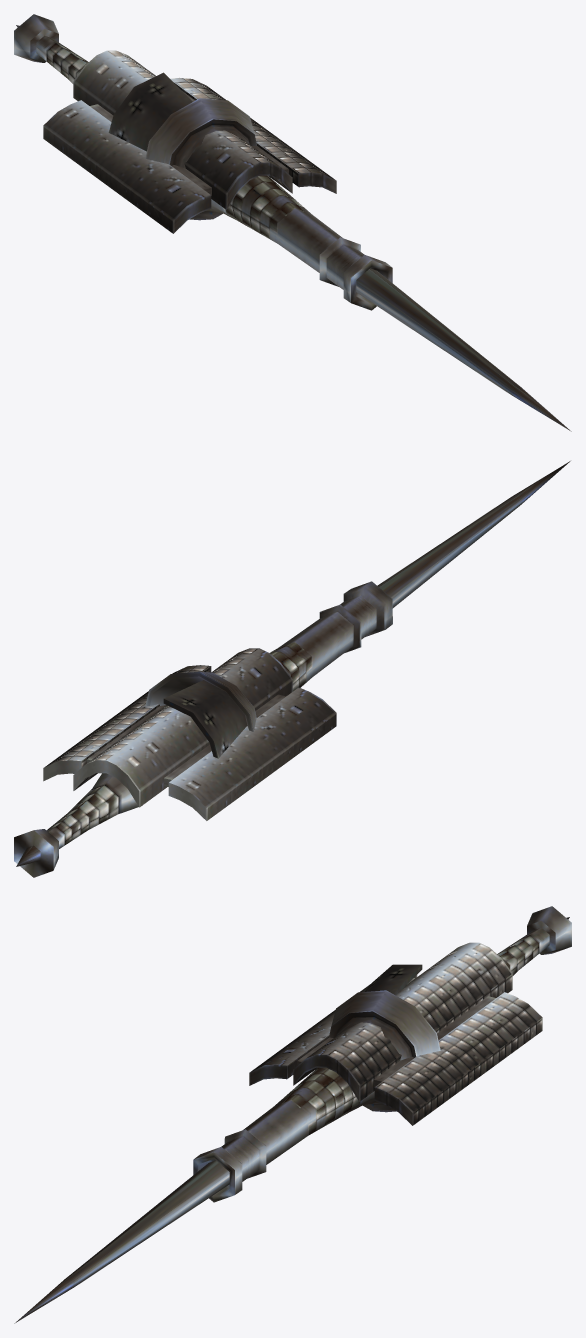
The model's file is we050_amh.OBJ.
3 views of the same model, one above another, from view 1: azimuth 30°, elevation 25°; view 2: azimuth 150°, elevation 25°; view 3: azimuth 330°, elevation 25° (orthographic).
Parts seen in each view (by area): view 1: mesh_0, mesh_1; view 2: mesh_1, mesh_0; view 3: mesh_1, mesh_0.
Part boxes in pixels (bbox=[...]): mesh_0: bbox=[14, 14, 571, 431]; mesh_1: bbox=[43, 50, 336, 233]; mesh_1: bbox=[43, 648, 336, 820]; mesh_0: bbox=[14, 461, 570, 877]; mesh_1: bbox=[249, 942, 542, 1125]; mesh_0: bbox=[14, 906, 571, 1323].
Size of the model in its own units: 77.15 by 55 by 455.
Materials: 1 (1 with a texture image).
